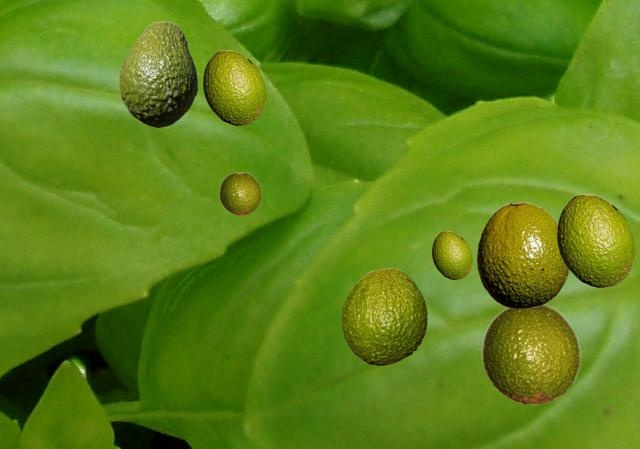avocado: (481, 304, 581, 404), (477, 202, 568, 307), (341, 268, 426, 364), (119, 21, 196, 126), (557, 194, 634, 286), (203, 50, 265, 124), (432, 231, 471, 278), (219, 172, 261, 214)
